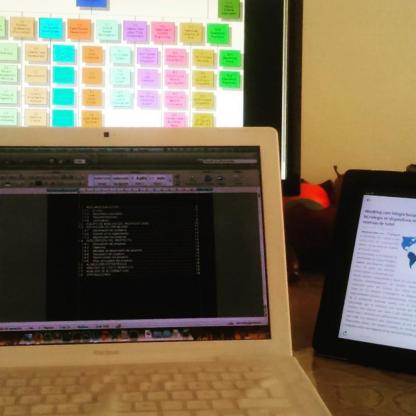board: (0, 127, 330, 416)
